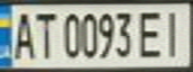0: (78, 8, 100, 60), (60, 8, 81, 60)
3: (112, 8, 139, 59)
9: (97, 8, 118, 59)
A: (6, 8, 36, 61)
E: (136, 7, 166, 60)
I: (157, 7, 190, 58)
T: (30, 8, 57, 60)
